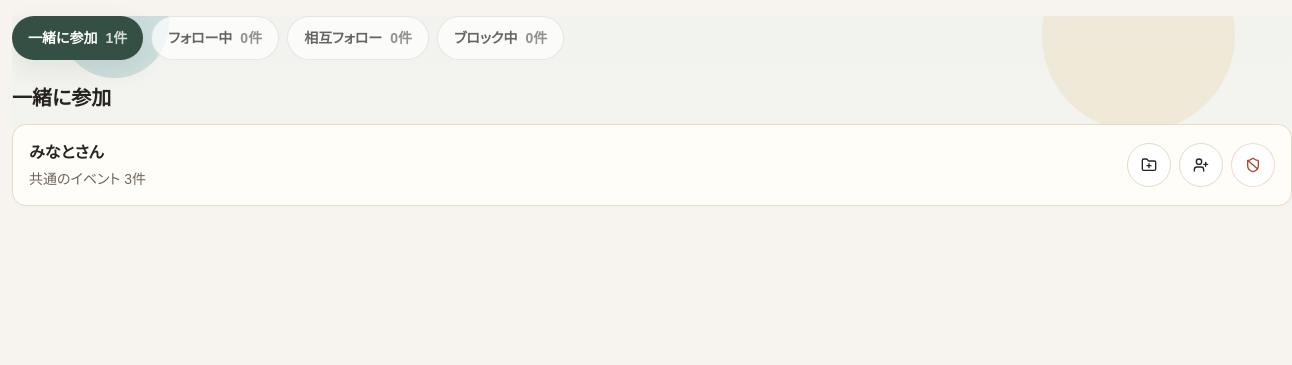
Test case: ConnectionList › お気に入りの撤去とグループ › ブロックの確認に、グループからも外れることを書く
Click the button named "ブロック" at (1253, 165), box [1231,143,1275,187]
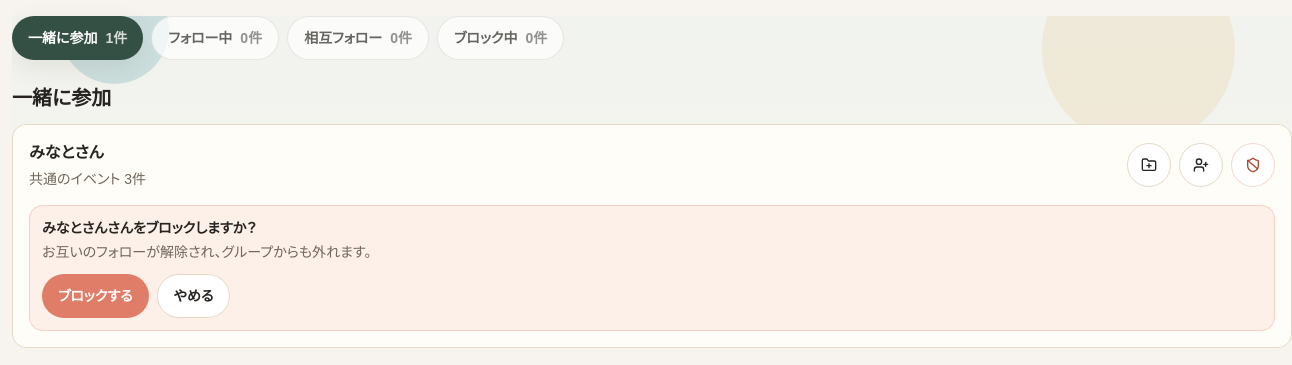
Expected: the text "お互いのフォローが解除され、グループからも外れます。" is shown, [42,244,371,260]
